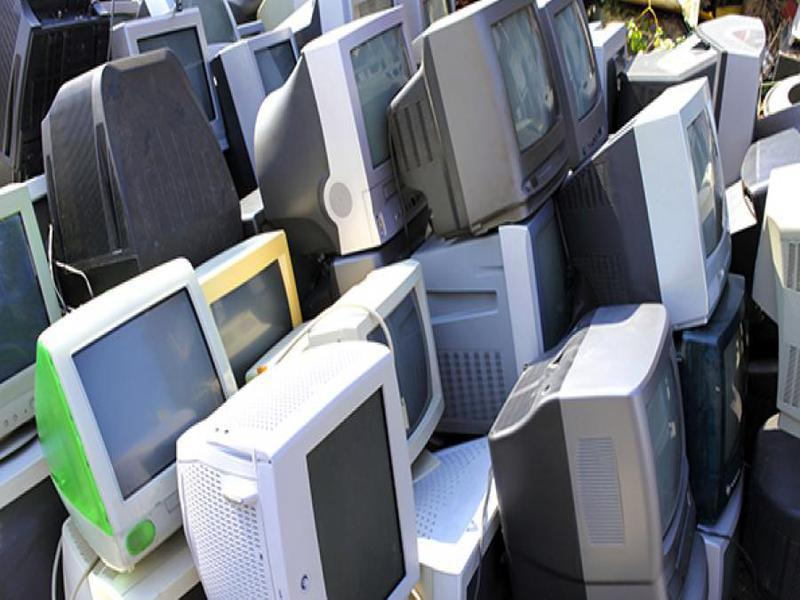tv_pc: (168, 341, 437, 600), (485, 301, 713, 600), (25, 256, 239, 573), (550, 74, 734, 330), (384, 2, 576, 236), (249, 4, 421, 259), (191, 224, 309, 374)
